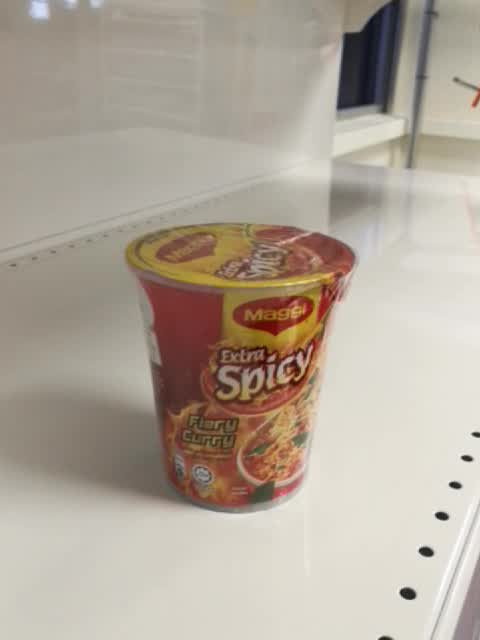maggi: (124, 221, 359, 516)
